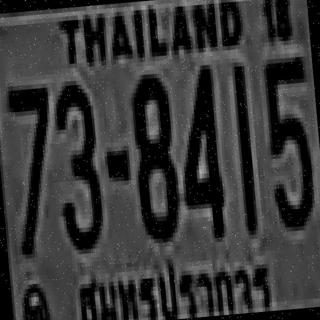N01: (228, 57, 256, 231)
N03: (49, 80, 102, 246)
N04: (172, 62, 224, 238)
N05: (260, 52, 316, 228)
N07: (5, 83, 59, 255), (5, 84, 55, 216)
N08: (126, 69, 178, 240)
P57: (74, 248, 277, 320)
